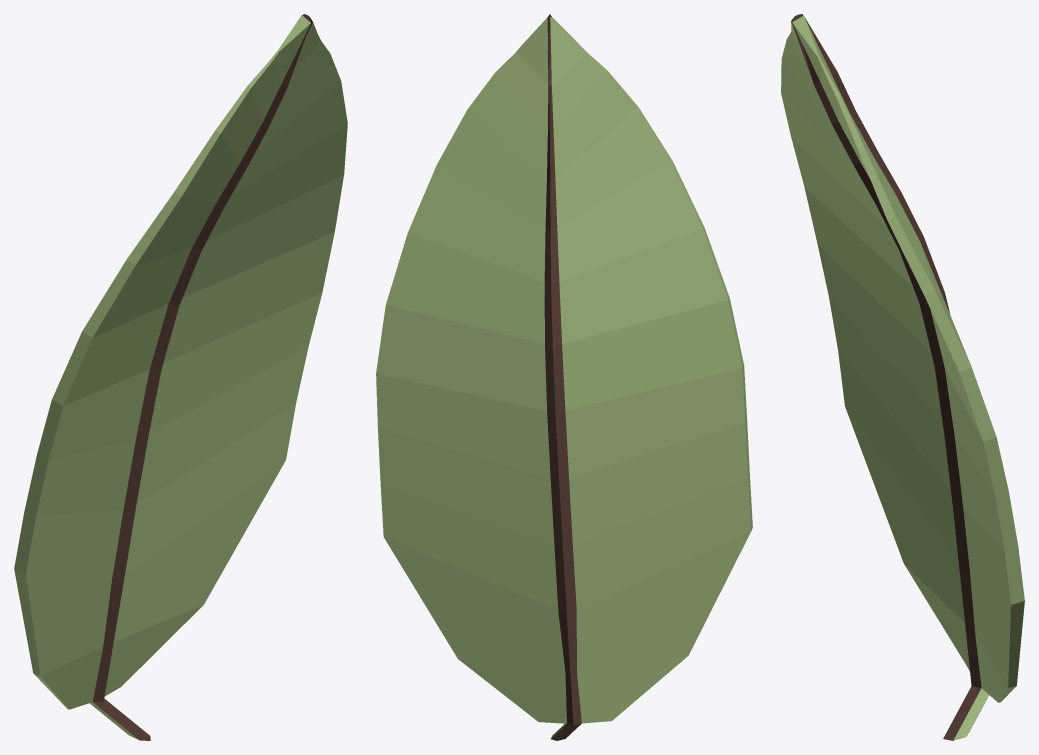
The model's file is Hojita.fbx.
3 views of the same model, side by side, from view 1: azimuth 30°, elevation 25°; view 2: azimuth 150°, elevation 25°; view 3: azimuth 270°, elevation 25° (orthographic). The views are drawn at different scales.
Parts seen in each view (by area): view 1: Cube.013; view 2: Cube.013; view 3: Cube.013.
Part boxes in pixels (box(x1,y1,x2,y2)): Cube.013: box(14, 14, 347, 740); Cube.013: box(376, 14, 752, 740); Cube.013: box(781, 14, 1024, 740).
Size of the model in its own units: 59.67 by 117 by 33.66.
